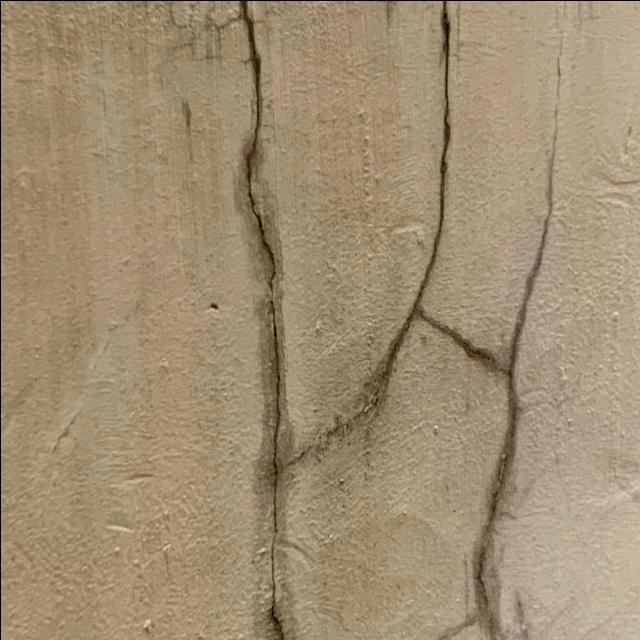SurfaceCrack: (316, 1, 595, 640), (186, 0, 344, 640)
